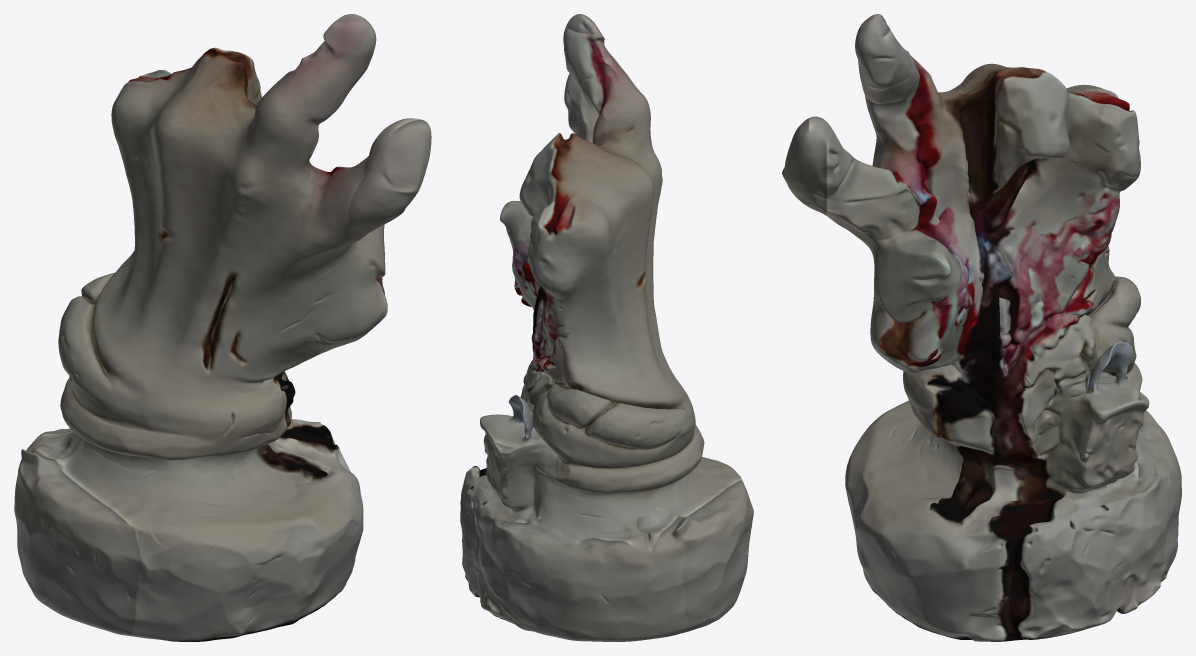
File: modelo3.glb
3 views of the same model, side by side, from view 1: azimuth 30°, elevation 25°; view 2: azimuth 150°, elevation 25°; view 3: azimuth 270°, elevation 25° (orthographic). The views are drawn at different scales.
Visible parts, largest first — view 1: Object_01; view 2: Object_01; view 3: Object_01.
Boxes of the visible parts, box(x1,y1,x2,y2) form: Object_01: box(14, 14, 431, 641); Object_01: box(460, 14, 753, 641); Object_01: box(782, 14, 1181, 641).
Bounding box in the file's own units: 0.5334 × 1 × 0.5962.
Materials: 1 (1 with a texture image).
